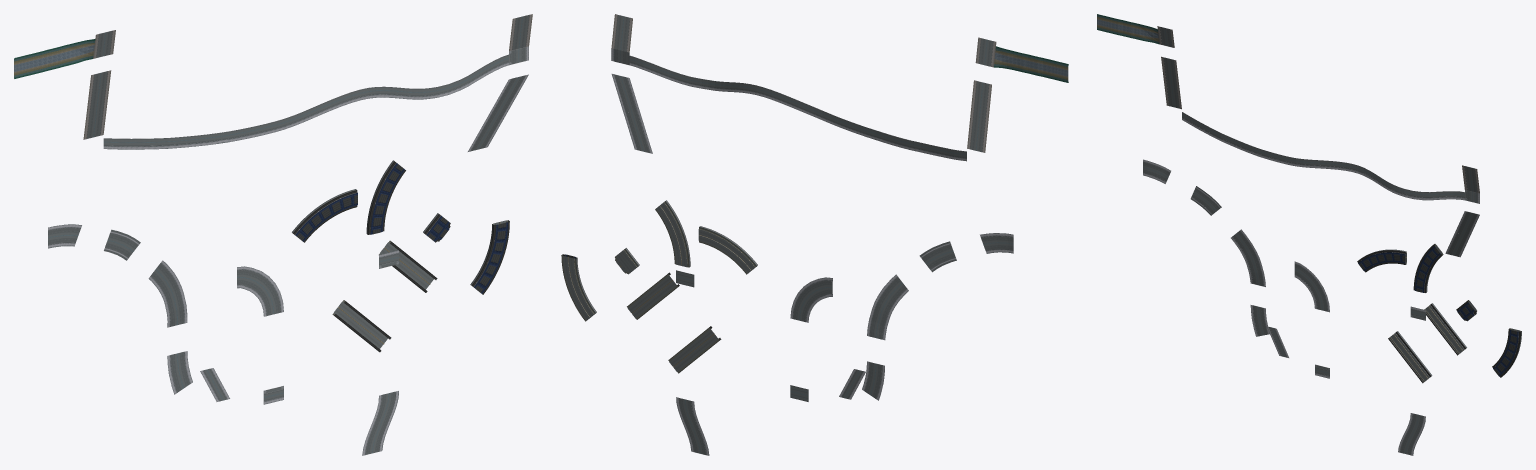
File: landne_landne__part_07.obj
The picture shows the model from 3 angles, left to right: view 1: azimuth 30°, elevation 25°; view 2: azimuth 150°, elevation 25°; view 3: azimuth 330°, elevation 25°; orthographic projection. The views are drawn at different scales.
Visible parts, largest first — view 1: landne_landne__part_07; view 2: landne_landne__part_07; view 3: landne_landne__part_07.
Boxes of the visible parts, x1=… form: landne_landne__part_07: x1=14, y1=14, x2=532, y2=455; landne_landne__part_07: x1=561, y1=14, x2=1068, y2=455; landne_landne__part_07: x1=1097, y1=14, x2=1521, y2=455.
Size of the model in its own units: 786 by 727 by 110.
Materials: 96 (96 with a texture image).
